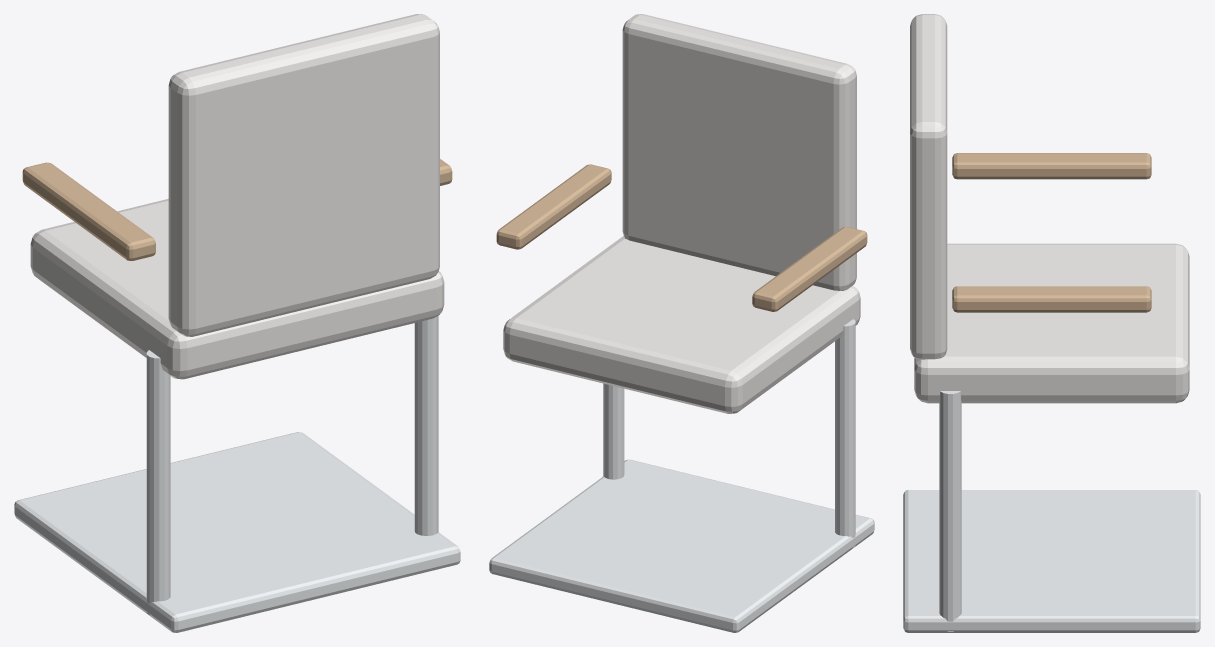
The model's file is modern_office_kitchenette_asset_board_63.glb.
3 renders of one model, left to right at view 1: azimuth 30°, elevation 25°; view 2: azimuth 150°, elevation 25°; view 3: azimuth 270°, elevation 25°, orthographic. The views are drawn at different scales.
Visible parts, largest first — view 1: Cube; view 2: Cube; view 3: Cube.
Part boxes in pixels (x1,y1,x2,y2): Cube: [14, 14, 460, 632]; Cube: [489, 14, 874, 632]; Cube: [903, 14, 1200, 632].
Size of the model in its own units: 0.554 by 0.885 by 0.4756.
